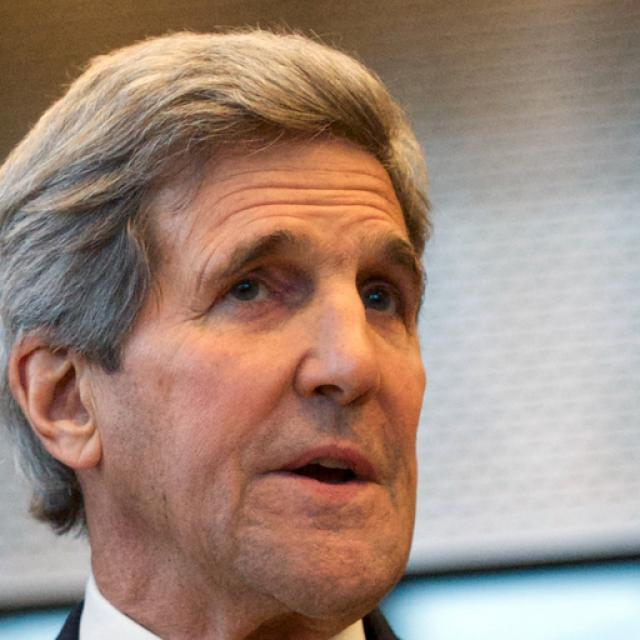0_rostro_limpio: (9, 32, 423, 611)
